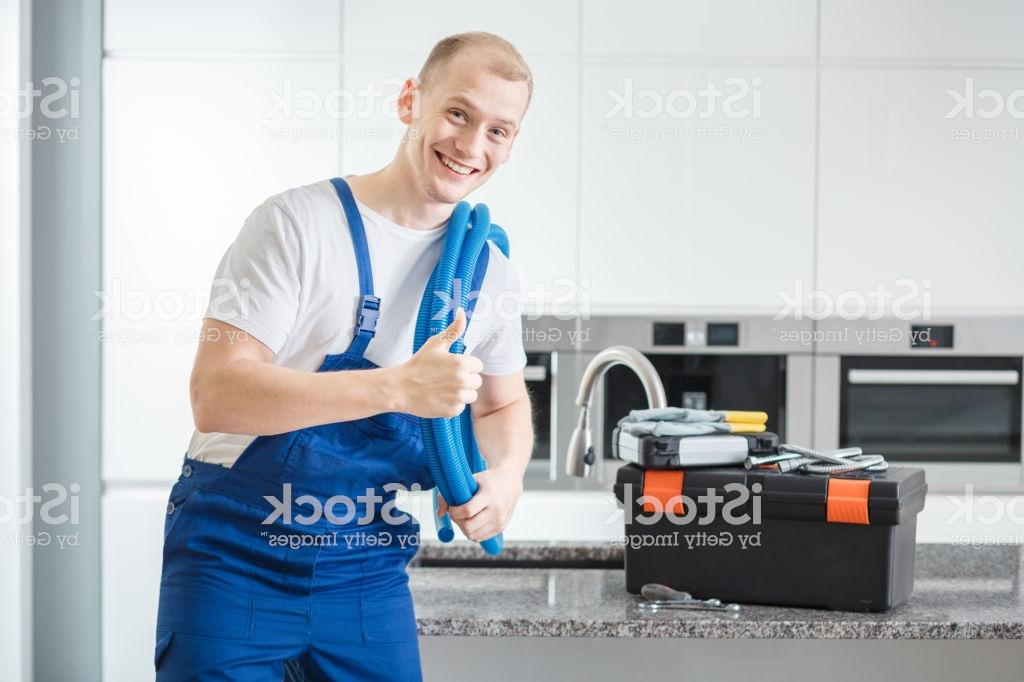thumbsup: (412, 306, 487, 422)
